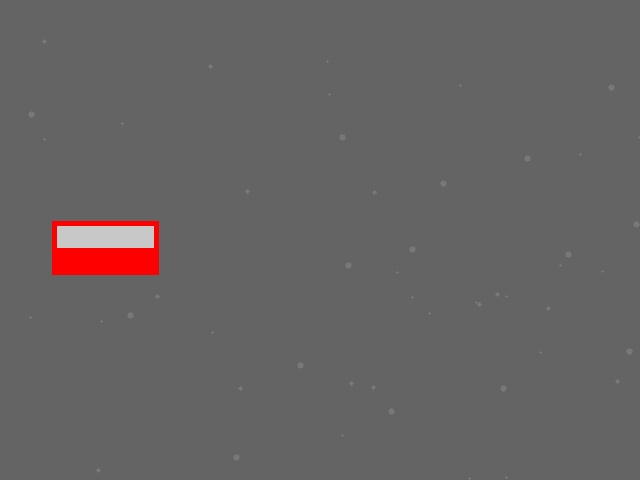car: (52, 221, 158, 274)
